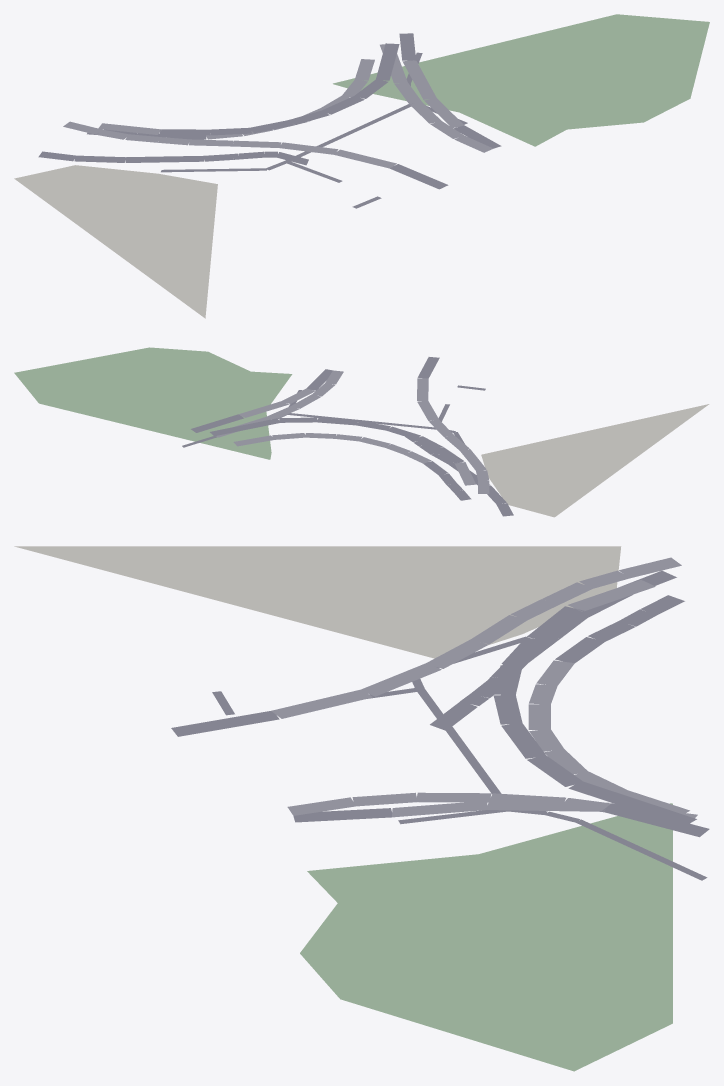
The model's file is 137_99_mid.glb.
The picture shows the model from 3 angles, top to bottom: view 1: azimuth 30°, elevation 25°; view 2: azimuth 150°, elevation 25°; view 3: azimuth 270°, elevation 25°; orthographic projection. The views are drawn at different scales.
Bounding box in the file's own units: 393 × 14.4 × 219.
